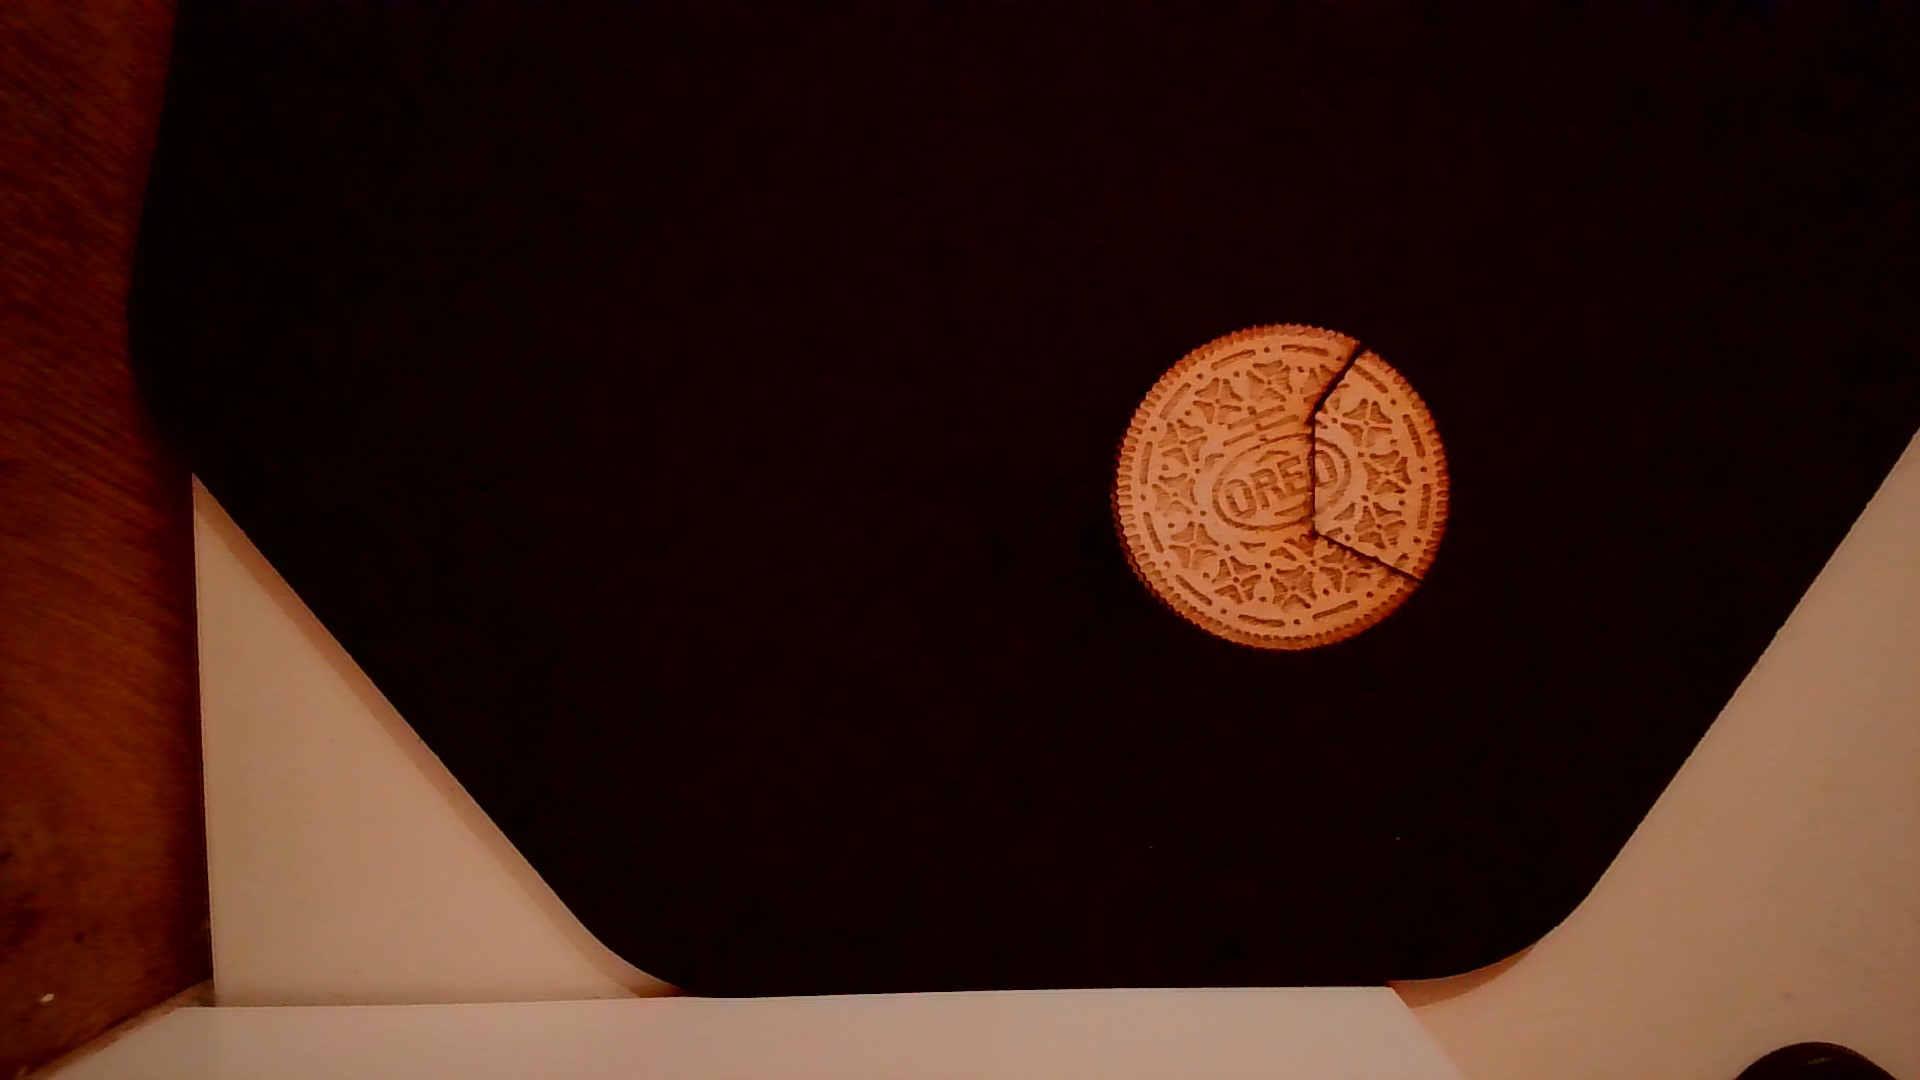Fissure: (1300, 327, 1433, 591)
Oréo: (1098, 313, 1457, 659)
